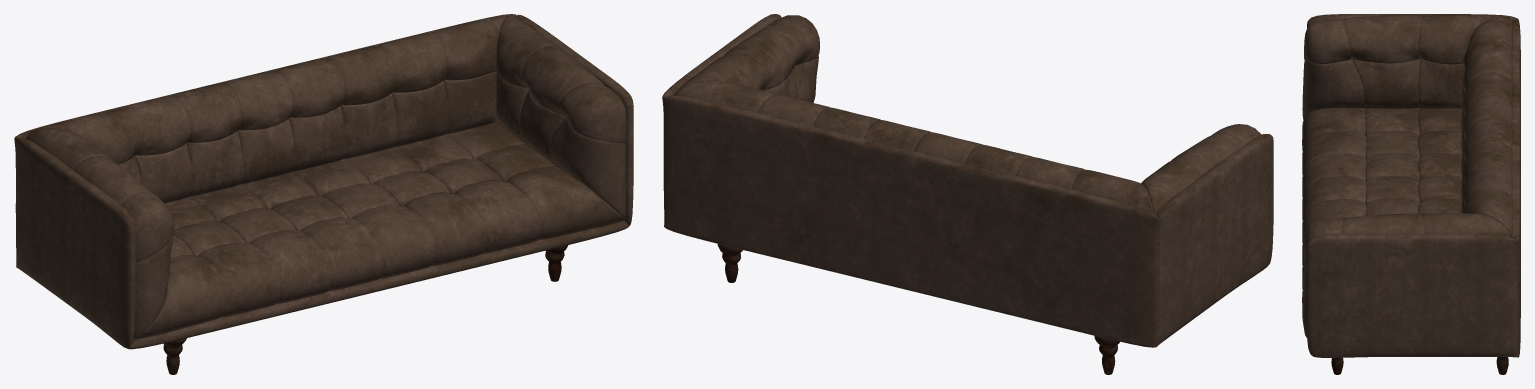
Rendered from sofa_free.glb.
3 views of the same model, side by side, from view 1: azimuth 30°, elevation 25°; view 2: azimuth 150°, elevation 25°; view 3: azimuth 270°, elevation 25° (orthographic). The views are drawn at different scales.
Parts seen in each view (by area): view 1: Sofa; view 2: Sofa; view 3: Sofa.
Boxes of the visible parts, left/top/right/bottom form: Sofa: left=14, top=14, right=633, bottom=374; Sofa: left=662, top=14, right=1273, bottom=374; Sofa: left=1302, top=14, right=1520, bottom=374.
Bounding box in the file's own units: 2.8 × 1.01 × 1.15.
Materials: 1 (1 with a texture image).
